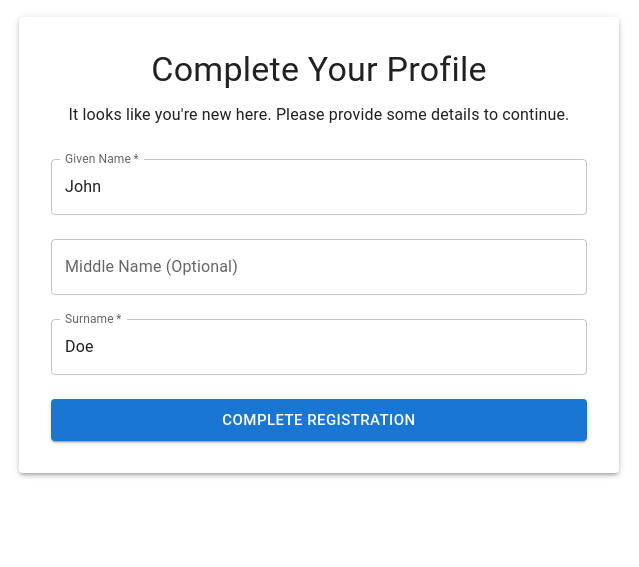
Test: CreateCitizen Component › displays error message on submission failure
This screenshot has width=639, height=567.
Click the button "Complete Registration" at (319, 420), box [51,399,587,441]
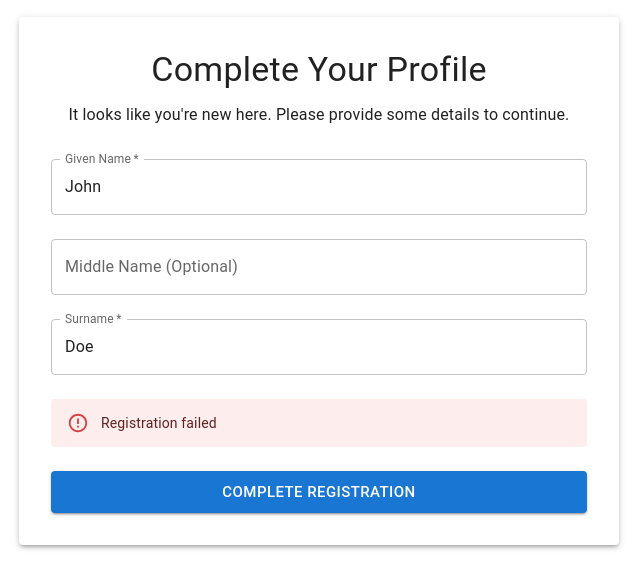
Now the text "Registration failed" is shown, box [101,415,217,431]
